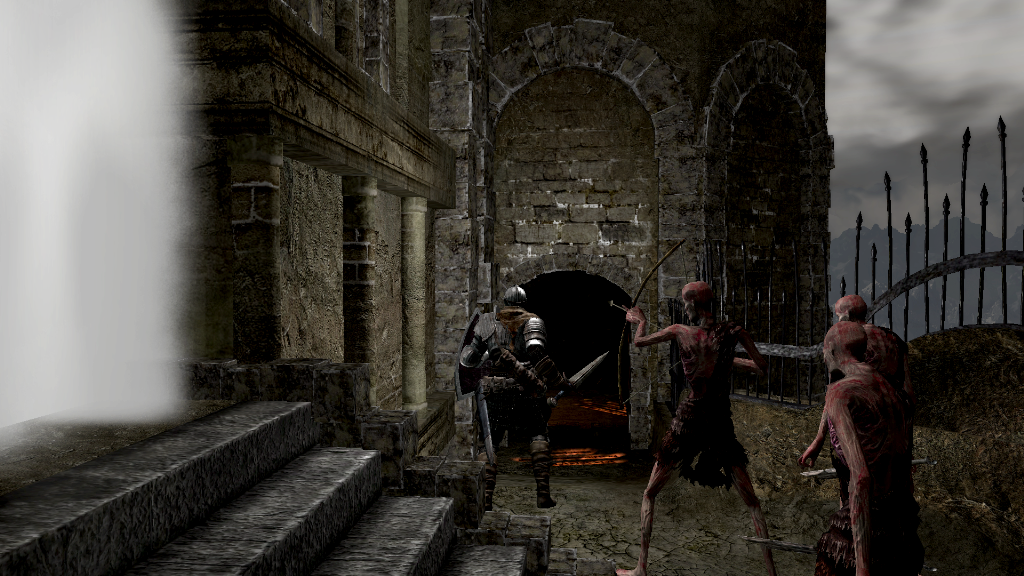hollow: (623, 279, 781, 576), (813, 322, 925, 576), (798, 294, 913, 471)
player: (455, 284, 611, 510)
